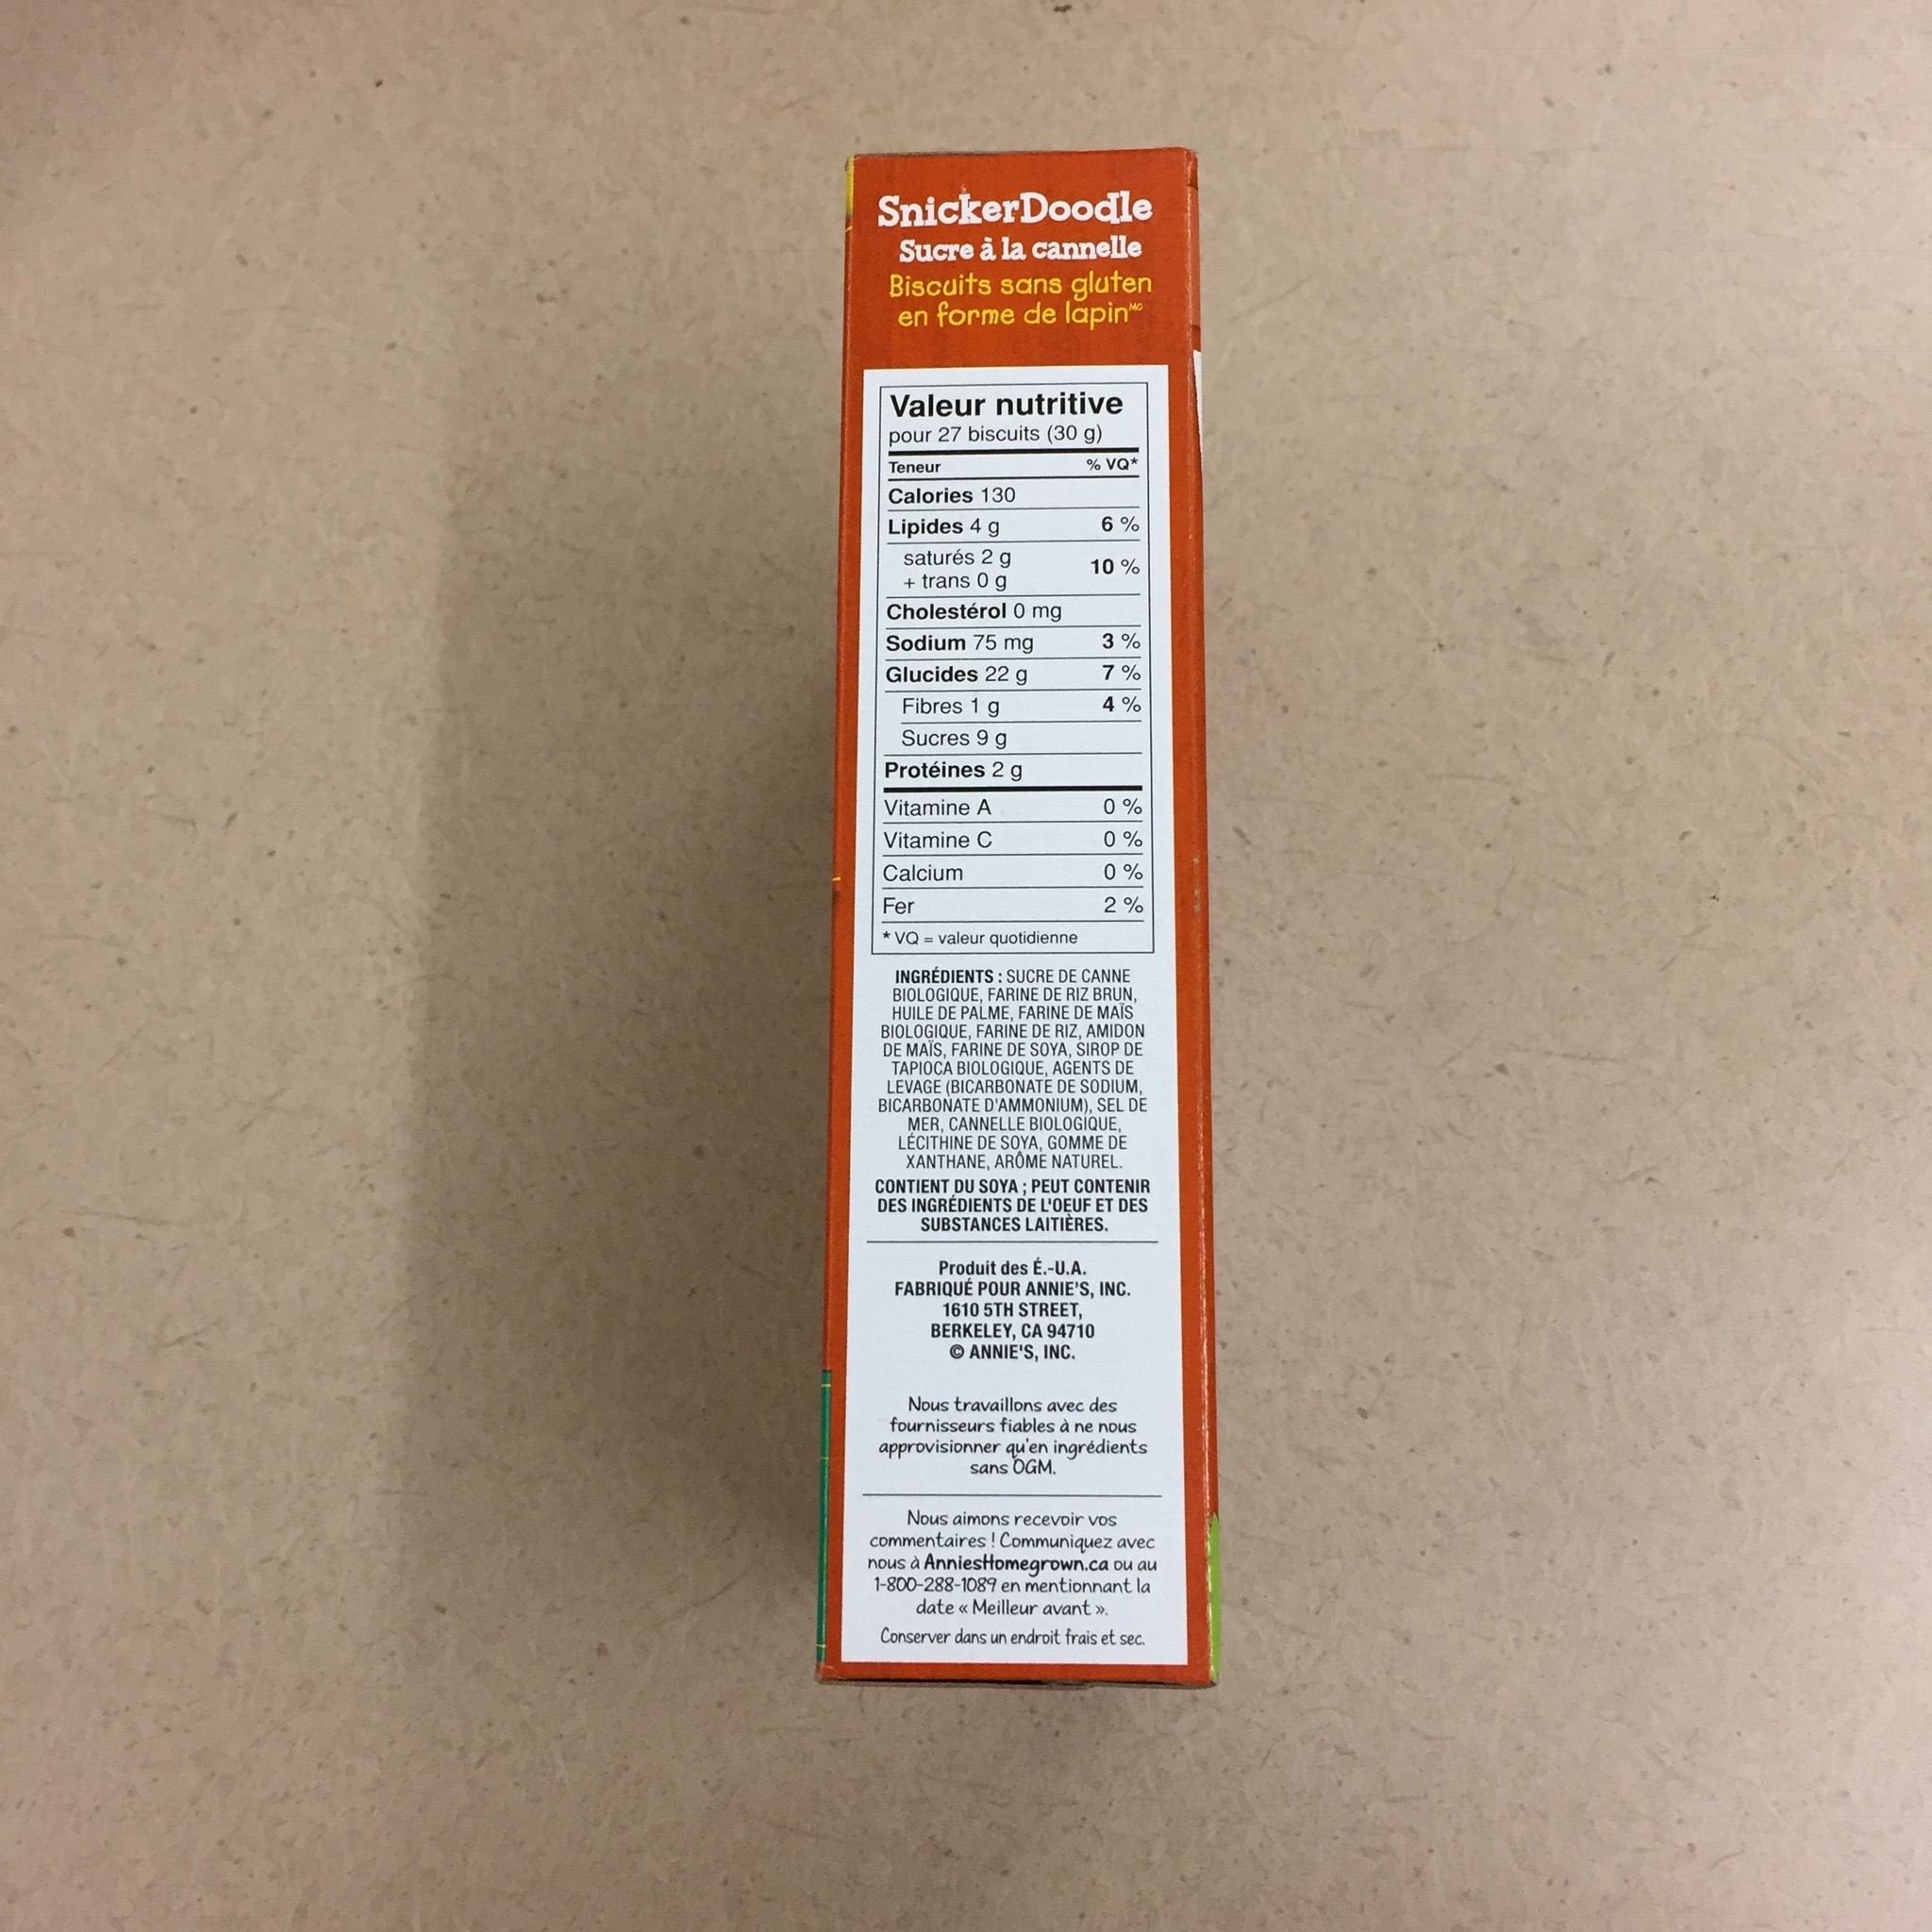annies_snickerdoodle_cinnamon_sugar: (814, 145, 1224, 1697)
